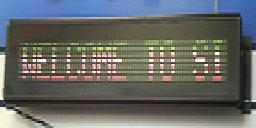LED: (14, 37, 228, 83)
